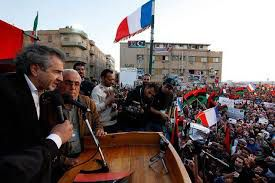French Flag: (115, 1, 150, 40), (197, 107, 219, 126)
